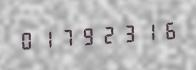nine: (77, 21, 96, 50)
one: (37, 24, 56, 52), (137, 17, 156, 45)
seven: (57, 22, 76, 51)
six: (157, 15, 176, 44)
three: (117, 18, 136, 47)
two: (97, 20, 116, 48)
zero: (17, 25, 36, 54)
